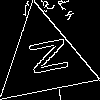N: (19, 35, 70, 79)
